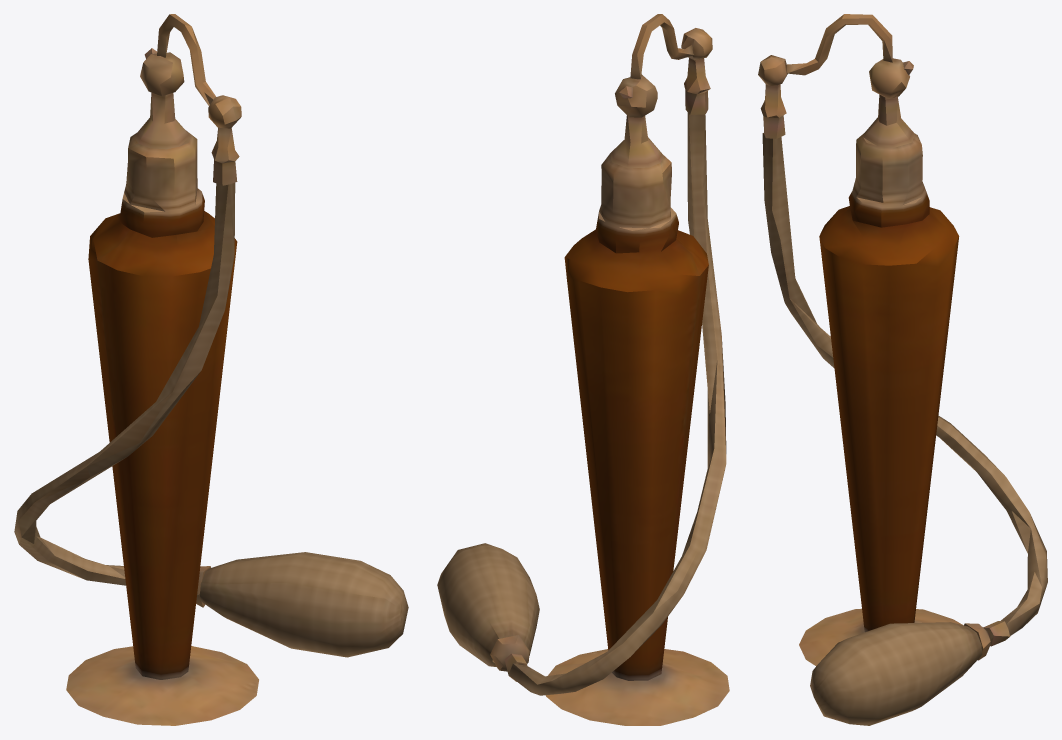
The model's file is perfume-bottle-d.lod1.glb.
3 views of the same model, side by side, from view 1: azimuth 30°, elevation 25°; view 2: azimuth 150°, elevation 25°; view 3: azimuth 270°, elevation 25° (orthographic). The views are drawn at different scales.
Parts seen in each view (by area): view 1: perfume-bottle-d; view 2: perfume-bottle-d; view 3: perfume-bottle-d.
Part boxes in pixels (left/top/right/bottom): perfume-bottle-d: left=14, top=14, right=408, bottom=725; perfume-bottle-d: left=437, top=14, right=729, bottom=725; perfume-bottle-d: left=758, top=14, right=1047, bottom=725.
Bounding box in the file's own units: 0.0958 × 0.1958 × 0.0815.
1 material, 1 textured.
